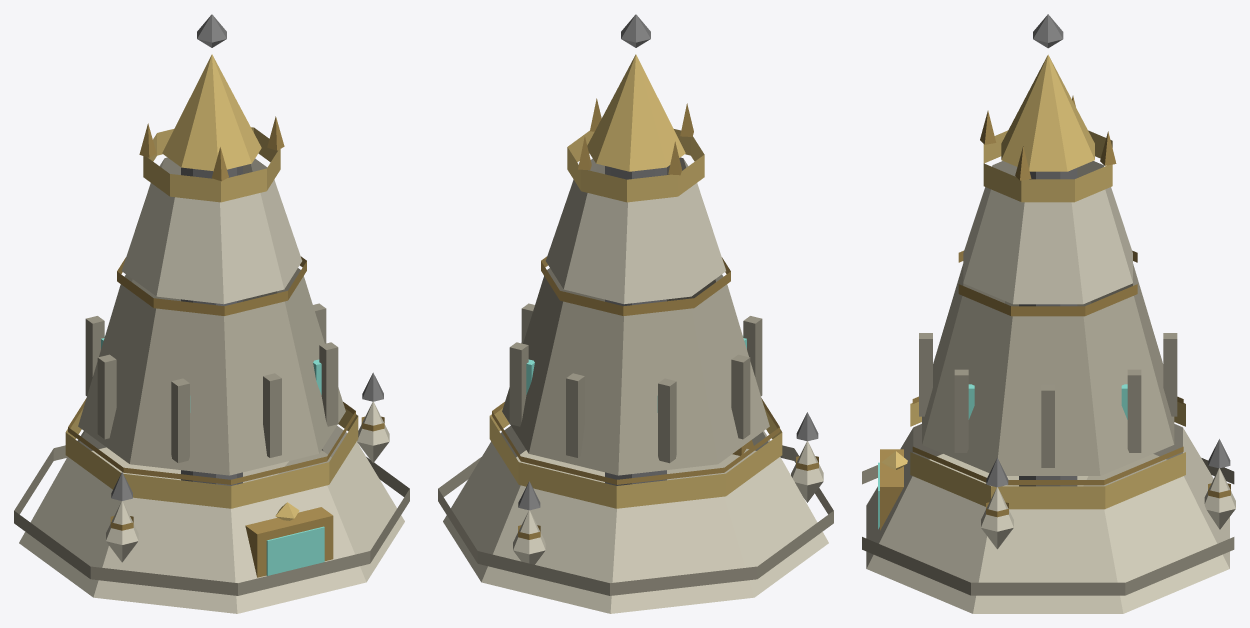
The model's file is hq-astro.obj.
3 views of the same model, side by side, from view 1: azimuth 30°, elevation 25°; view 2: azimuth 150°, elevation 25°; view 3: azimuth 270°, elevation 25° (orthographic).
Parts seen in each view (by area): view 1: hq-astro; view 2: hq-astro; view 3: hq-astro.
Part boxes in pixels (left/top/right/bottom): hq-astro: left=14, top=14, right=409, bottom=613; hq-astro: left=438, top=14, right=833, bottom=613; hq-astro: left=862, top=14, right=1235, bottom=613.
Bounding box in the file's own units: 11.73 × 18.3 × 11.79.
